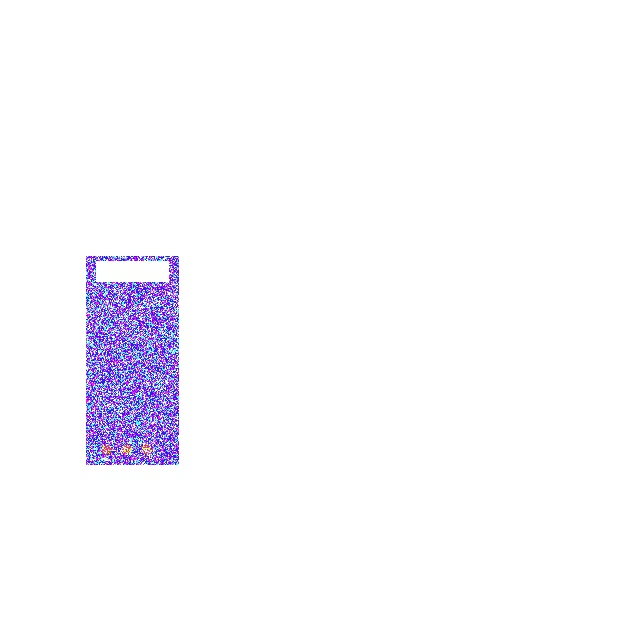Imprimante: (86, 256, 178, 464)
